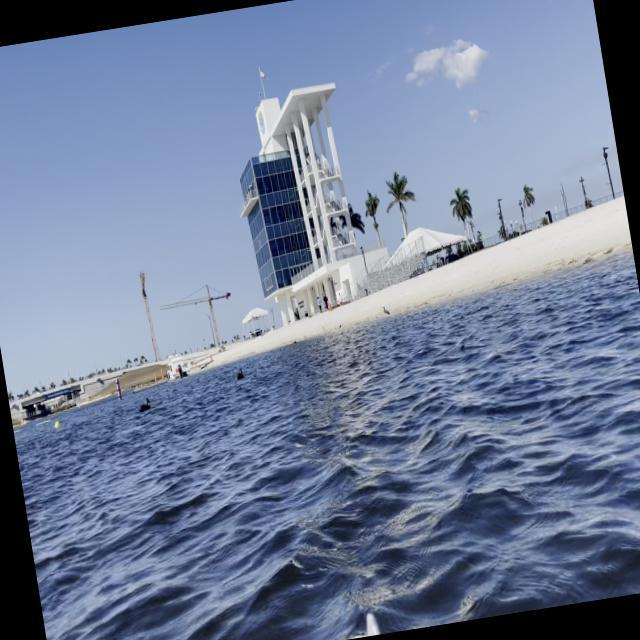buoy: (54, 420, 60, 431)
